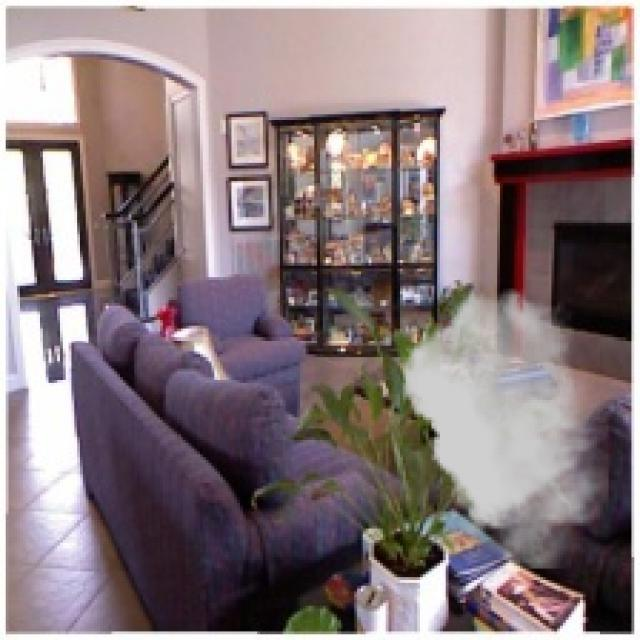Smoke: (402, 288, 608, 568)
